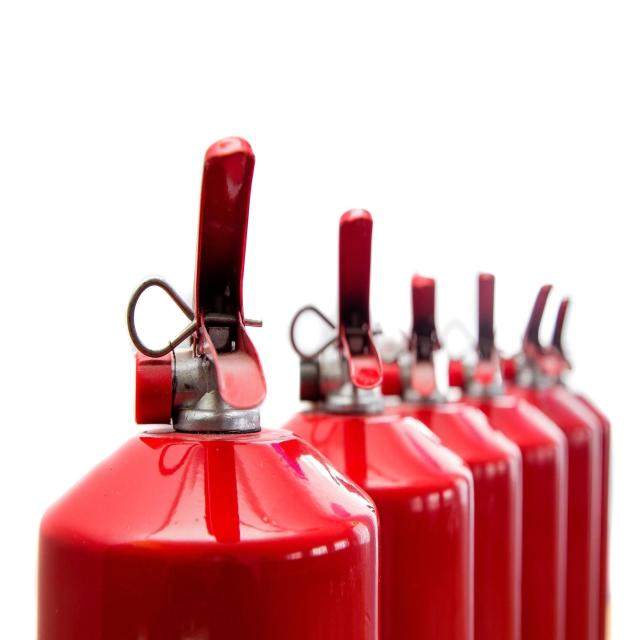fire_extinguisher: (31, 127, 390, 640), (253, 202, 483, 640), (344, 270, 529, 640), (433, 270, 575, 640), (482, 279, 607, 640)
